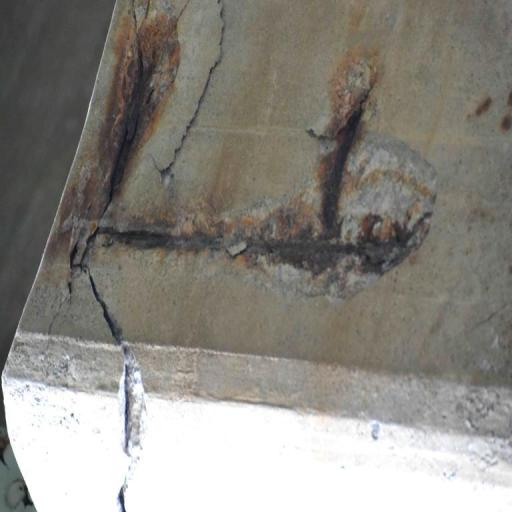spalling: (67, 15, 440, 303), (78, 275, 161, 507), (147, 1, 234, 190)
